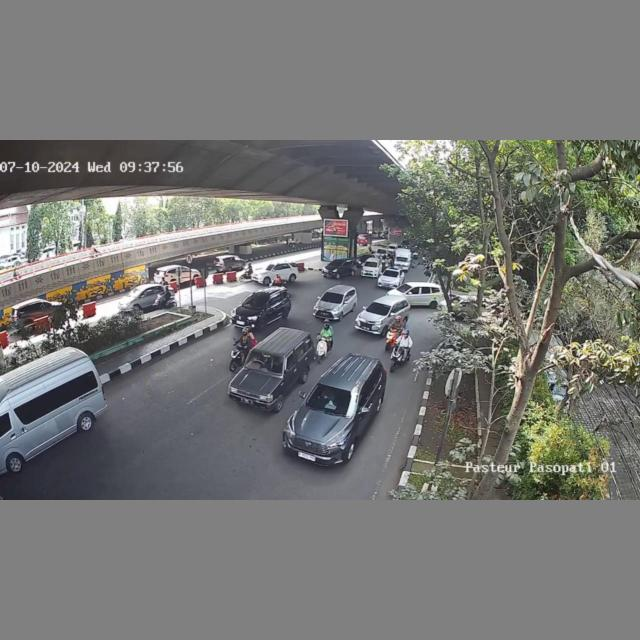windshield: (307, 384, 359, 417), (244, 351, 287, 375), (364, 302, 393, 317), (322, 290, 344, 305), (242, 295, 267, 307), (382, 271, 400, 276), (366, 261, 379, 267)
